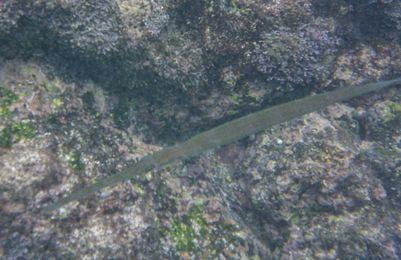Fistularia commersonii: (20, 55, 401, 229)
